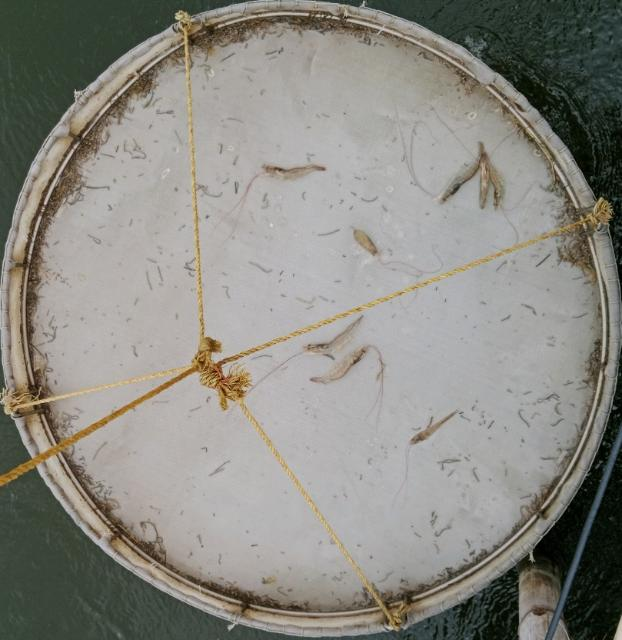shrimp: (433, 141, 484, 205), (303, 316, 363, 359), (311, 346, 368, 383), (411, 411, 458, 445), (486, 153, 507, 210), (263, 164, 325, 178), (354, 230, 377, 256), (479, 156, 490, 209)
